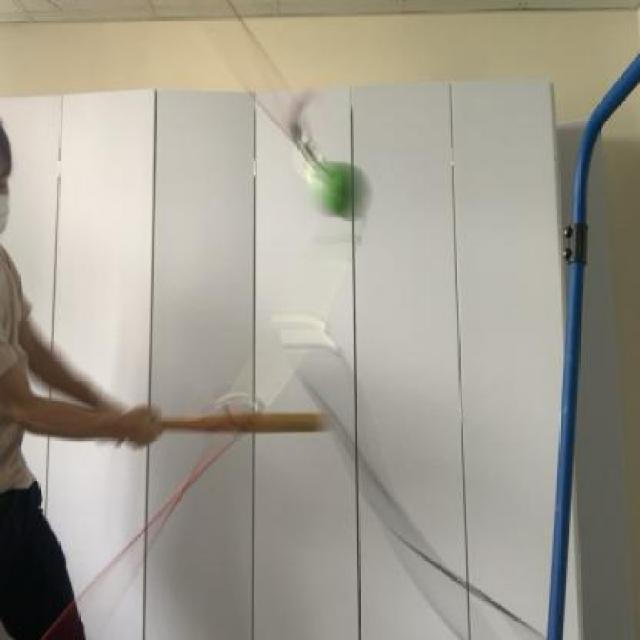baseball: (296, 149, 375, 236)
